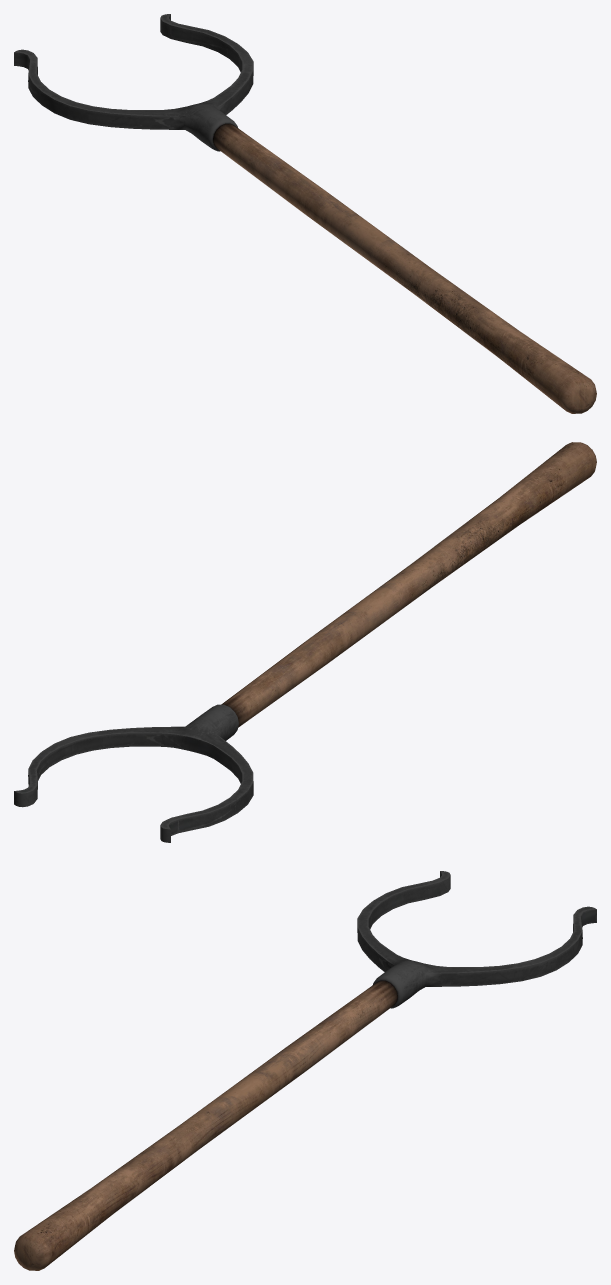
Rendered from Tongs.fbx.
The picture shows the model from 3 angles, top to bottom: view 1: azimuth 30°, elevation 25°; view 2: azimuth 150°, elevation 25°; view 3: azimuth 330°, elevation 25°; orthographic projection.
Parts seen in each view (by area): view 1: Цилиндр.001, Цилиндр.004; view 2: Цилиндр.001, Цилиндр.004; view 3: Цилиндр.001, Цилиндр.004.
Part boxes in pixels (x1,y1,x2,y2): Цилиндр.001: (213,123,596,413); Цилиндр.004: (14,14,253,151); Цилиндр.001: (221,442,596,727); Цилиндр.004: (14,704,253,842); Цилиндр.001: (14,980,397,1270); Цилиндр.004: (357,871,596,1008).
Size of the model in its own units: 82.05 by 14.62 by 356.
1 material, 1 textured.
